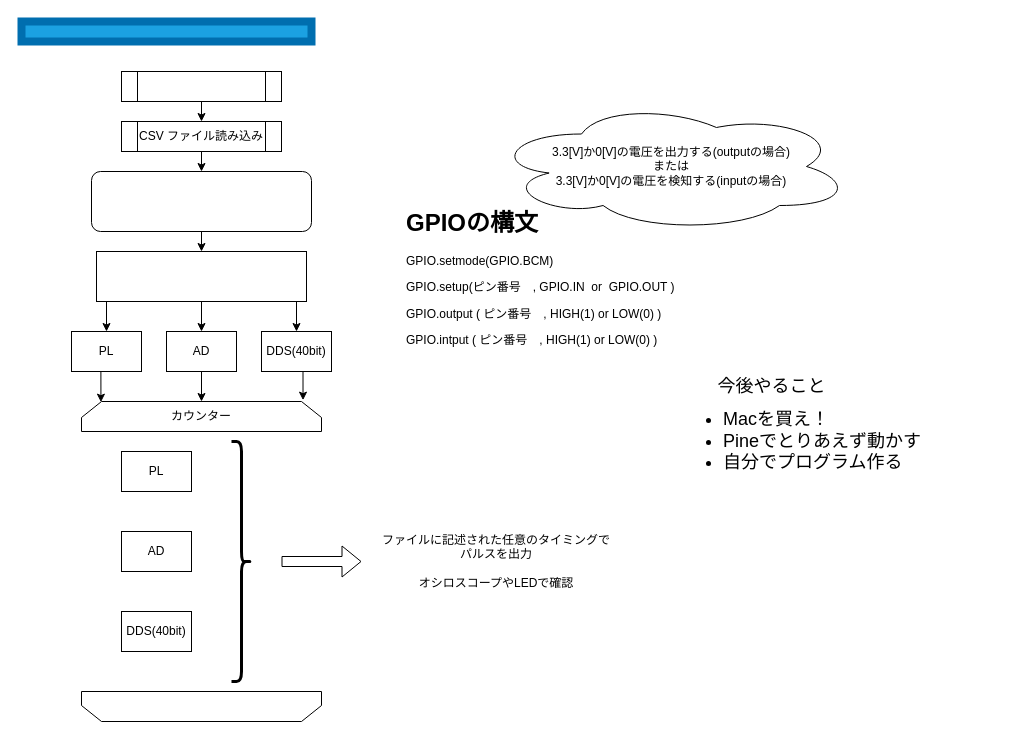
Some shapes in this 1018 by 739 pixel diagram are drawn without their labels. Here are the shapes that lost their labels. From the top down, the centre of each, then its label:
pixel 166 31: Pulsesimulatorプログラム(Python)
pixel 201 86: モジュールインポート
pixel 201 201: GPIOのどのピンを使用するか指定
pixel 201 276: CSVファイルを適切な形式に変換して読み込み、リスト化
